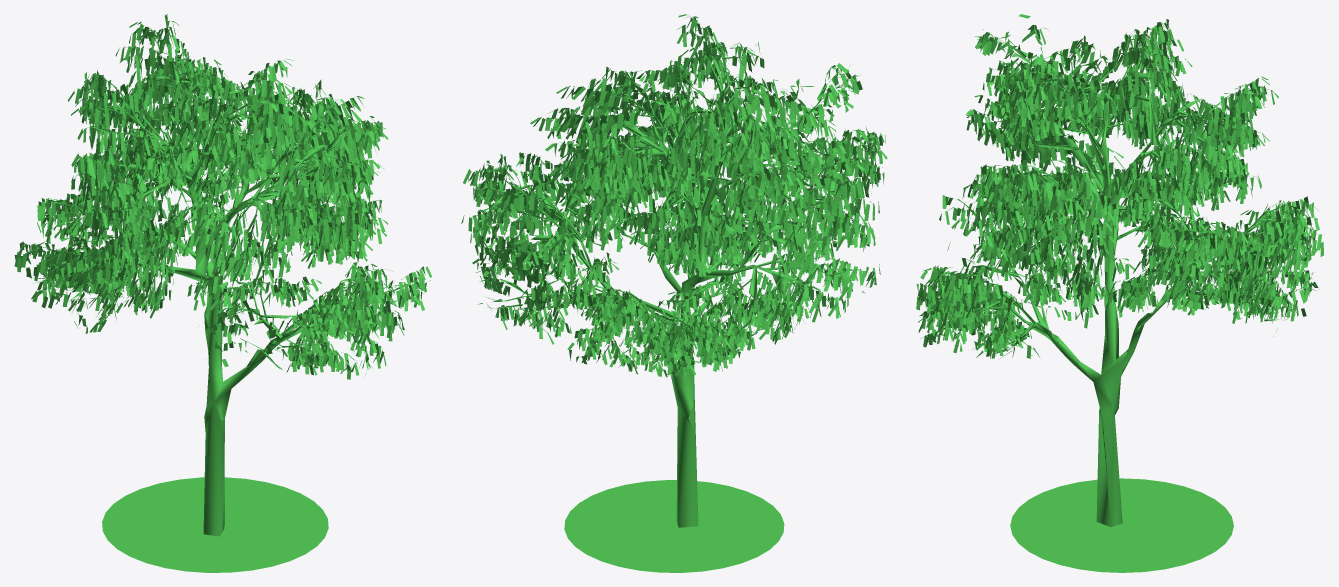
Rendered from assets.glb.
3 renders of one model, left to right at view 1: azimuth 30°, elevation 25°; view 2: azimuth 150°, elevation 25°; view 3: azimuth 270°, elevation 25°, orthographic. The views are drawn at different scales.
Visible parts, largest first — view 1: plant; view 2: plant; view 3: plant.
Boxes of the visible parts, left/top/right/bottom form: plant: left=14, top=14, right=431, bottom=572; plant: left=461, top=14, right=887, bottom=572; plant: left=916, top=14, right=1323, bottom=572.
Size of the model in its own units: 1.57 by 2.1 by 1.61.
